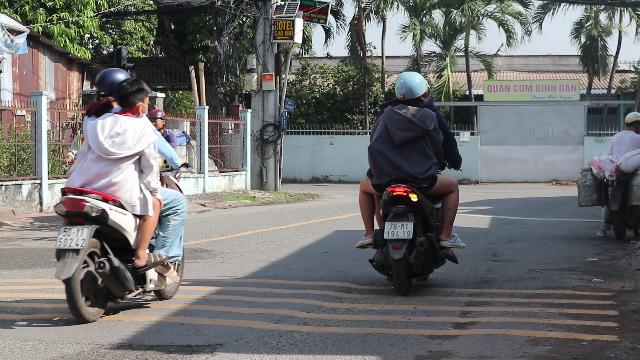helmet: (90, 67, 132, 109), (392, 70, 428, 106), (624, 111, 640, 131)
licenseplate: (56, 226, 90, 248), (385, 221, 413, 238)
motorcyclist: (49, 66, 193, 320), (351, 68, 465, 292), (596, 110, 640, 240)
nohelmet: (116, 78, 152, 116)
